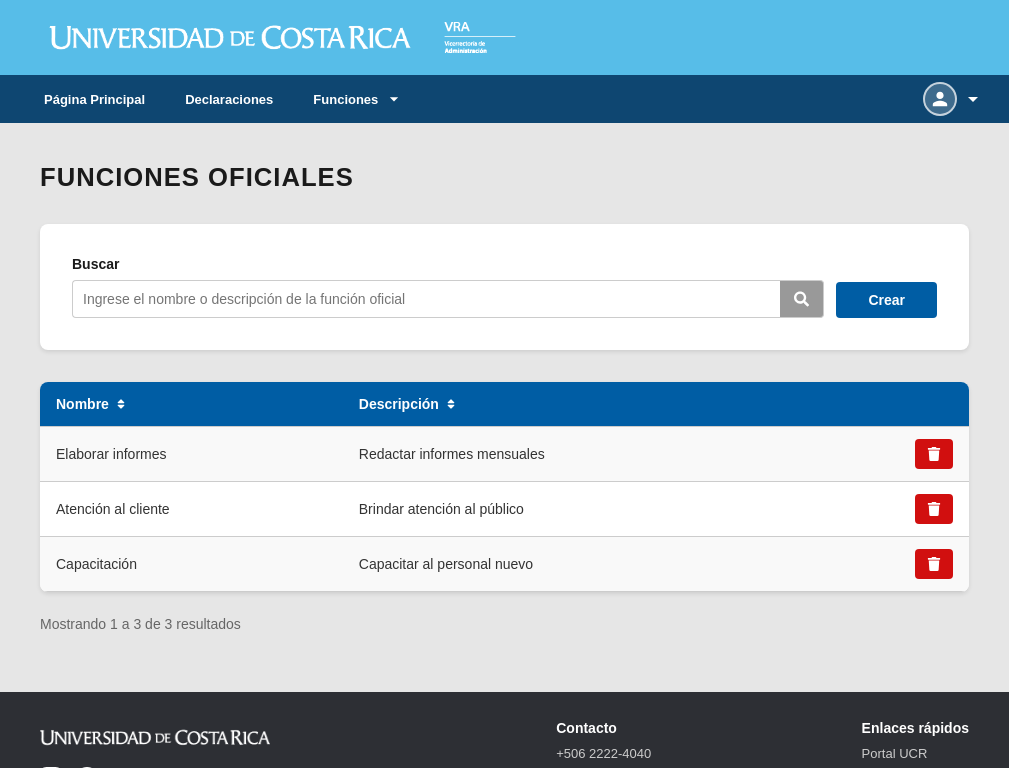
QueryFunctions Page › cierra modal de crear al hacer clic en Cancelar
The width and height of the screenshot is (1024, 768).
Expected: the text "Elaborar informes" is shown, [40, 426, 343, 482]
What coordinates should you click on to do the following:
click the button "Crear"
I would click on:
 (887, 300)
Its box is [836, 282, 937, 318].
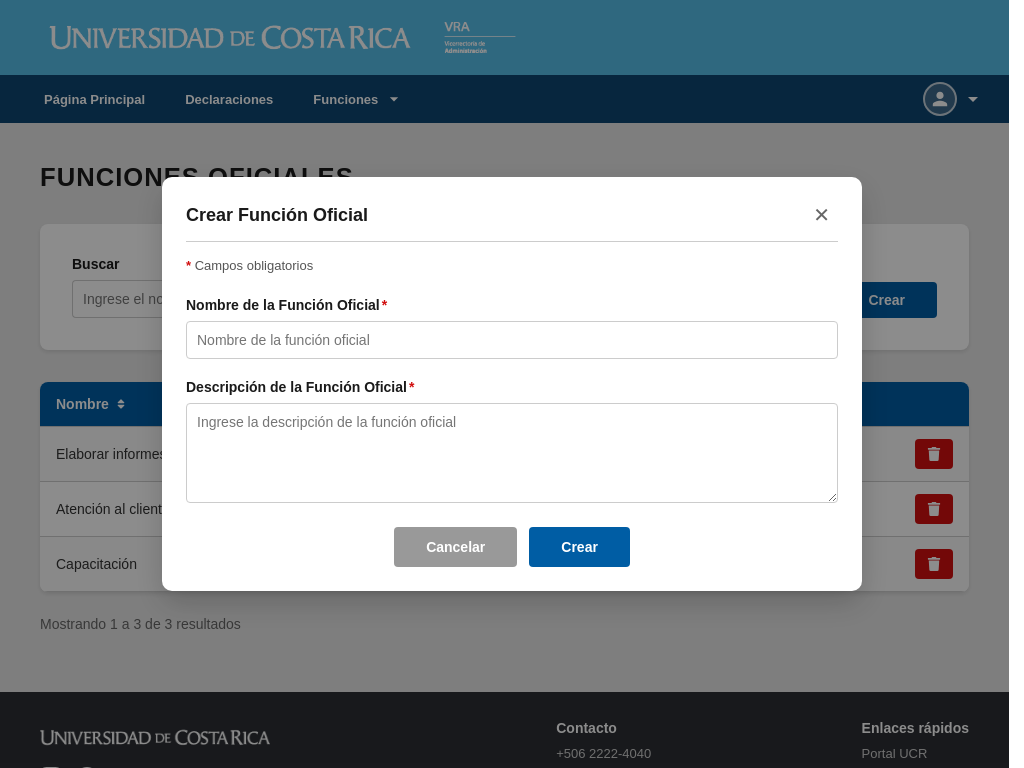
Now the dialog is shown
What coordinates should you click on to do the following:
click the button "Cancelar"
I would click on:
 (456, 547)
Its box is [394, 527, 517, 567].
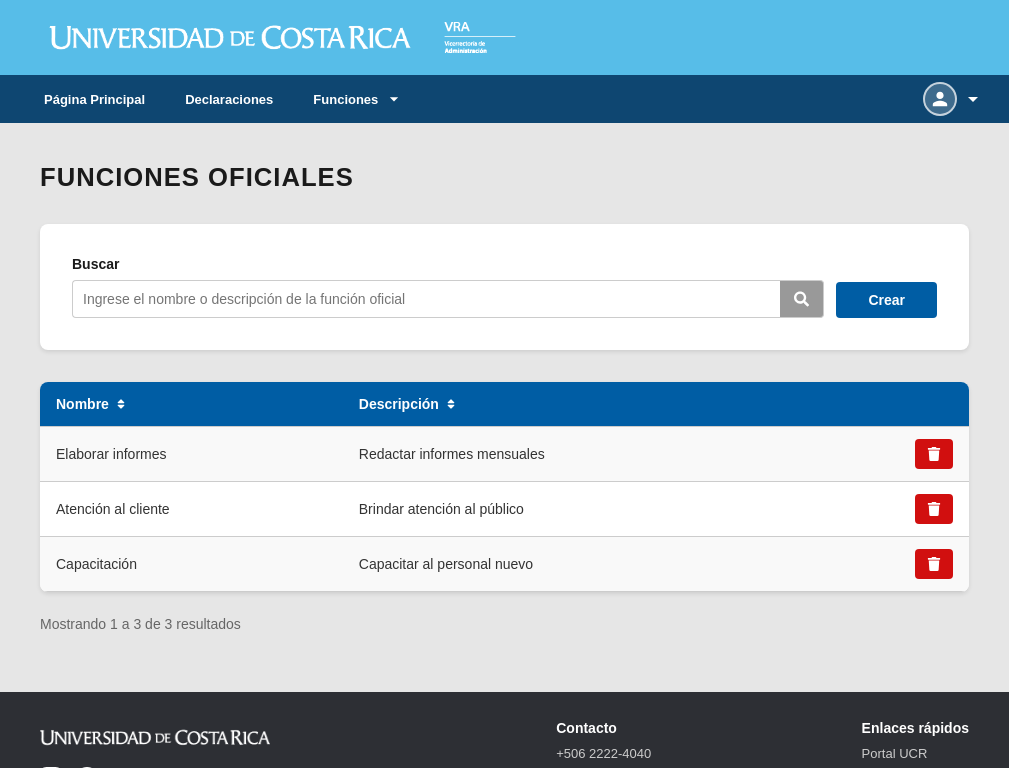
Now the dialog is gone
